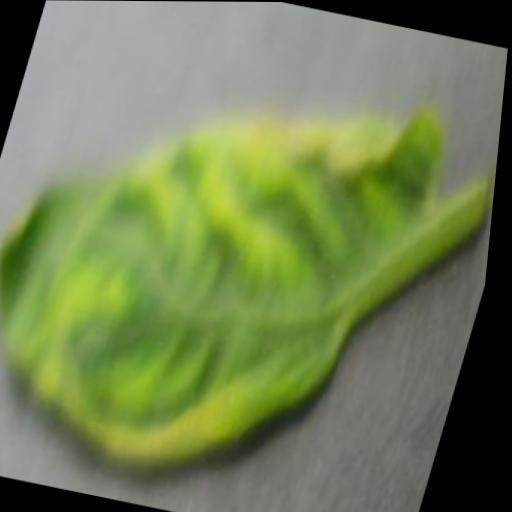Yellow Leaf Curl Virus: (0, 30, 472, 512)
